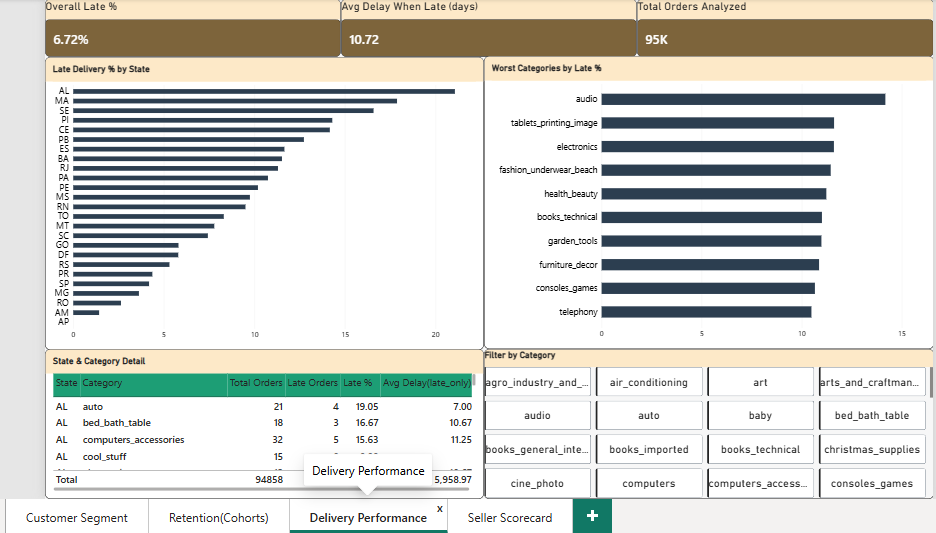

This screenshot's page, from the dashboard's own definition file:
{"tool":"powerbi","page":{"name":"Delivery Performance","canvas":[1920,1080],"ordinal":2},"visuals":[{"type":"cardVisual","title":"Overall Late %","fields":{"Data":["ecommerce_analytics vw_delivery_performance.OverallLatePct"]},"box":[0,0,639,125],"z":0},{"type":"cardVisual","title":"Avg Delay When Late (days)","fields":{"Data":["Avg(ecommerce_analytics vw_delivery_performance.avg_delay_days_late_only)"]},"box":[639.4,0,639,125],"z":1000},{"type":"cardVisual","title":"Total Orders Analyzed","fields":{"Data":["Sum(ecommerce_analytics vw_delivery_performance.total_orders)"]},"box":[1278.7,0,641,125],"z":2000},{"type":"clusteredBarChart","title":"Late Delivery % by State","fields":{"Category":["ecommerce_analytics vw_delivery_performance.customer_state"],"Y":["Avg(ecommerce_analytics vw_delivery_performance.late_pct)"]},"box":[0,125.3,947.8,632.6],"z":3000},{"type":"clusteredBarChart","title":"Worst Categories by Late %","fields":{"Category":["ecommerce_analytics vw_delivery_performance.category"],"Y":["Avg(ecommerce_analytics vw_delivery_performance.late_pct)"]},"box":[948.2,123.1,971.7,632.6],"z":4000},{"type":"tableEx","title":"State & Category Detail","fields":{"Values":["ecommerce_analytics vw_delivery_performance.customer_state","ecommerce_analytics vw_delivery_performance.category","Sum(ecommerce_analytics vw_delivery_performance.total_orders)","Sum(ecommerce_analytics vw_delivery_performance.late_orders)","Sum(ecommerce_analytics vw_delivery_performance.late_pct)","Sum(ecommerce_analytics vw_delivery_performance.avg_delay_days_late_only)"]},"box":[0,756,948.2,324],"z":5000},{"type":"advancedSlicerVisual","title":"Filter by Category","fields":{"Values":["ecommerce_analytics vw_delivery_performance.category"]},"box":[948.2,756,972,324],"z":6000}]}

Visuals, with their boxes on the page's 1920x1080 design canvas (x1, y1, x2, y2). These are canvas units, not pixel positions in the 936x533 screenshot, which may show the page scaled, cropped or inside an application window:
"Overall Late %" cardVisual: <box>0,0,639,125</box>
"Avg Delay When Late (days)" cardVisual: <box>639,0,1278,125</box>
"Total Orders Analyzed" cardVisual: <box>1279,0,1920,125</box>
"Late Delivery % by State" clusteredBarChart: <box>0,125,948,758</box>
"Worst Categories by Late %" clusteredBarChart: <box>948,123,1920,756</box>
"State & Category Detail" tableEx: <box>0,756,948,1080</box>
"Filter by Category" advancedSlicerVisual: <box>948,756,1920,1080</box>
